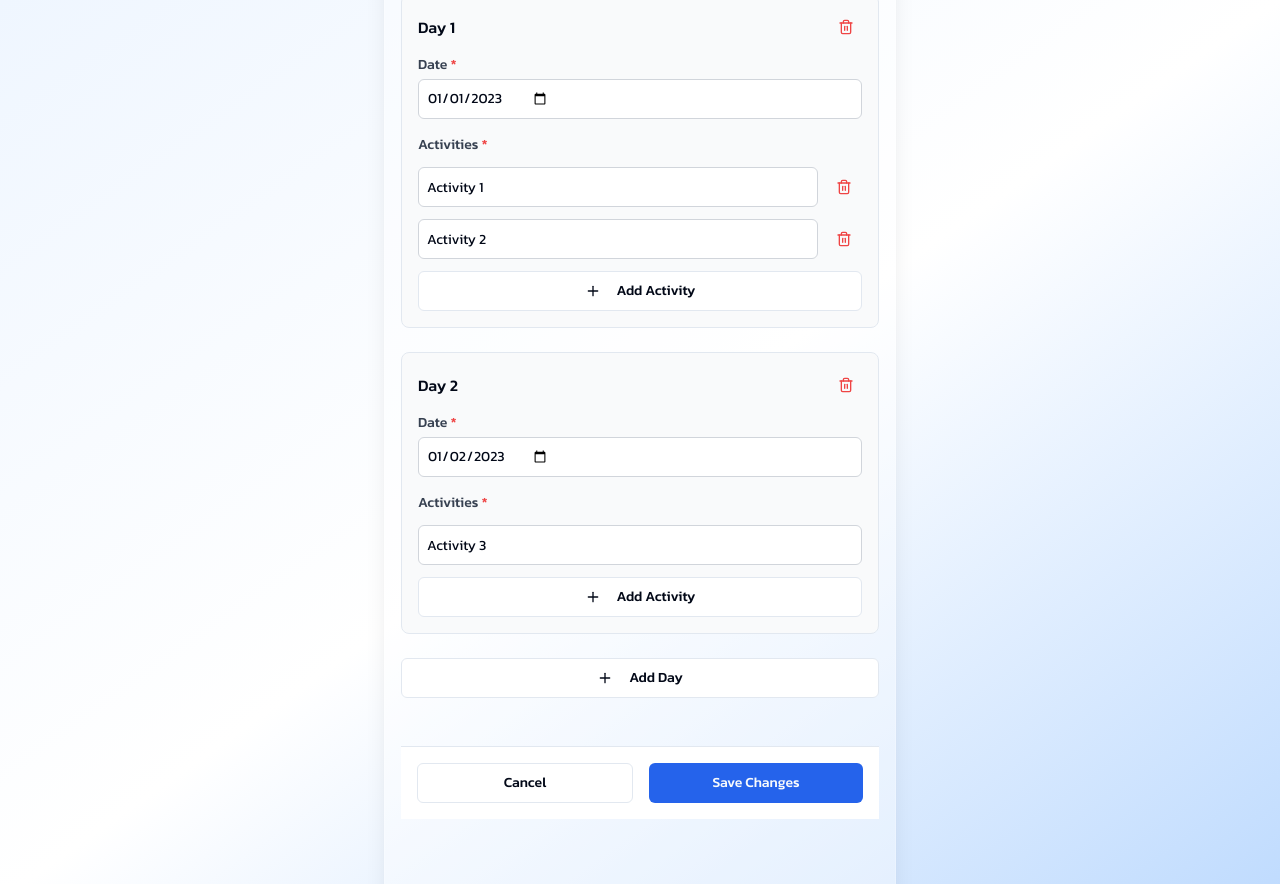
EditCamp Page › allows adding a day to the schedule
The width and height of the screenshot is (1280, 884).
(page scrolled)
Note: Click the "Add Day" button
Step 1. Click the button "Add Day" → [640, 678], box x1=401 y1=658 x2=879 y2=698
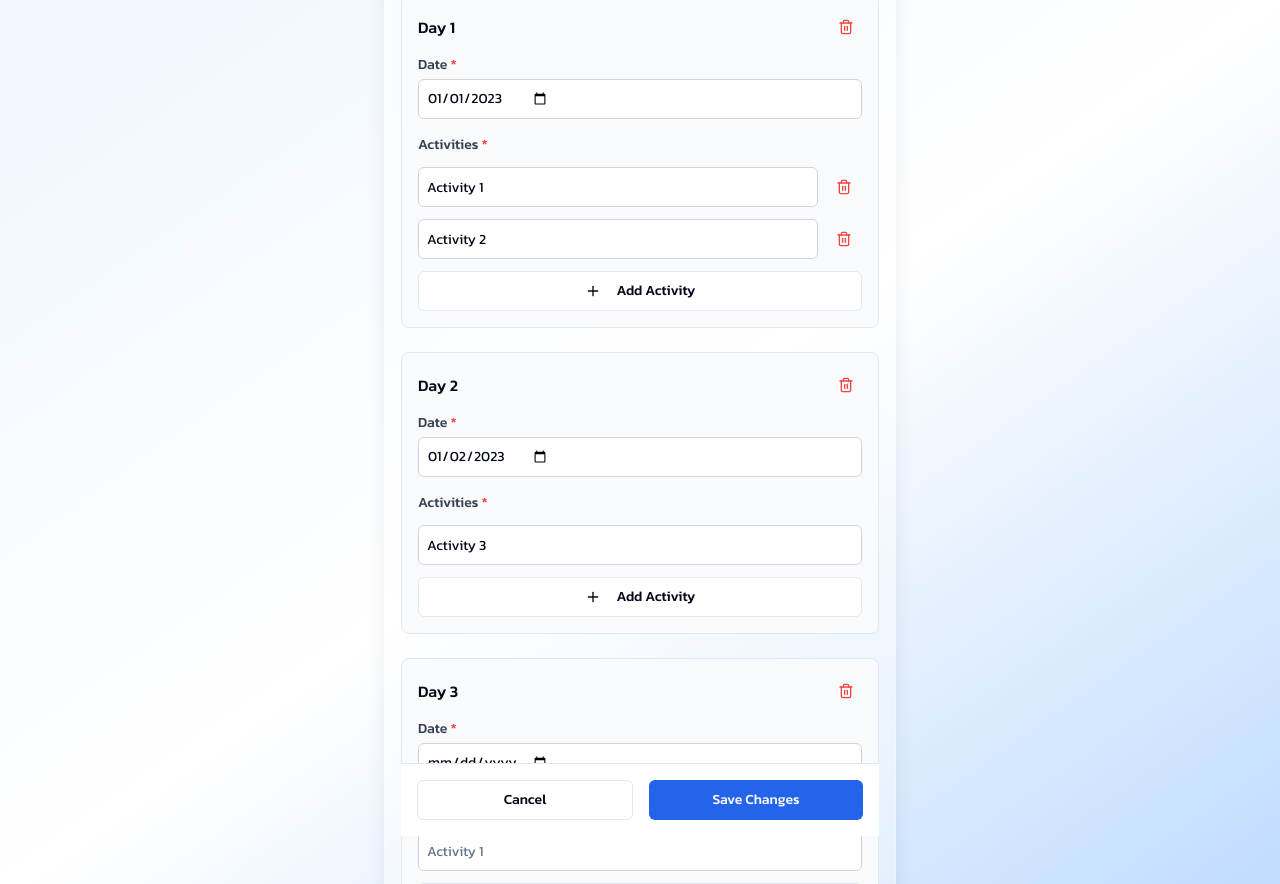
expect the number of headings "Day 1" is 3: met, box x1=418 y1=15 x2=455 y2=39; x1=418 y1=373 x2=458 y2=397; x1=418 y1=679 x2=458 y2=703
